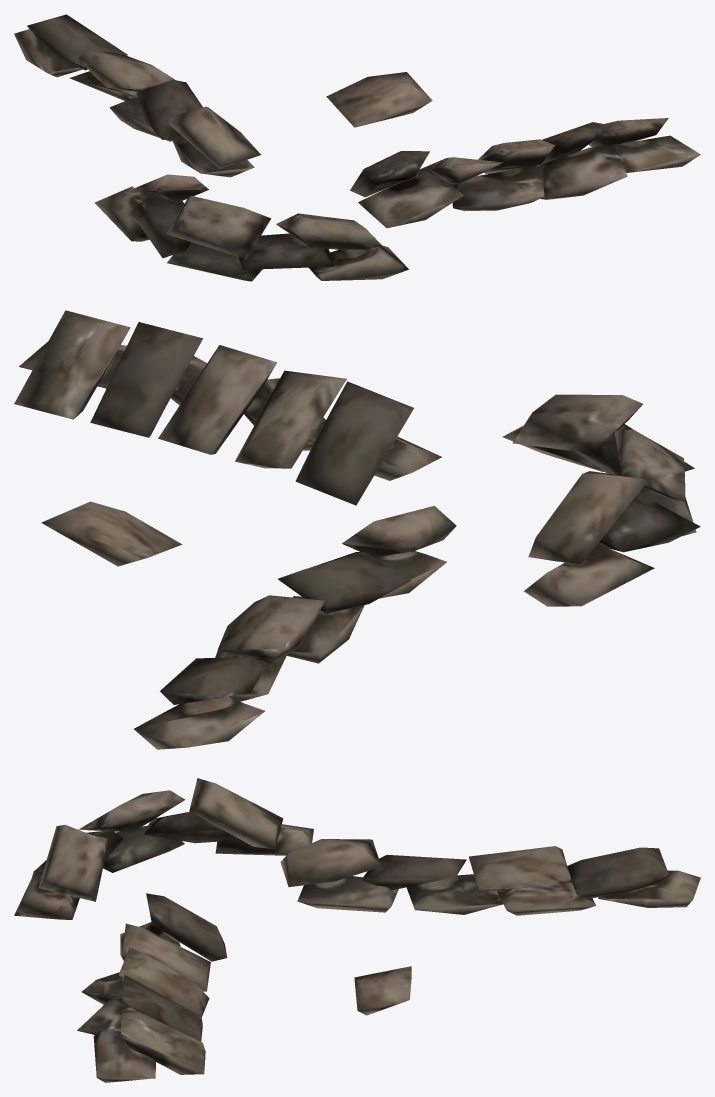
The model's file is sandbags.lod1.glb.
3 renders of one model, top to bottom at view 1: azimuth 30°, elevation 25°; view 2: azimuth 150°, elevation 25°; view 3: azimuth 270°, elevation 25°, orthographic. The views are drawn at different scales.
Parts seen in each view (by area): view 1: Object_2; view 2: Object_2; view 3: Object_2.
Part boxes in pixels (box(x1,y1,x2,y2)): Object_2: box(14, 14, 700, 281); Object_2: box(14, 310, 700, 749); Object_2: box(14, 778, 700, 1082).
Size of the model in its own units: 9.01 by 1.22 by 10.17.
Materials: 1 (1 with a texture image).
